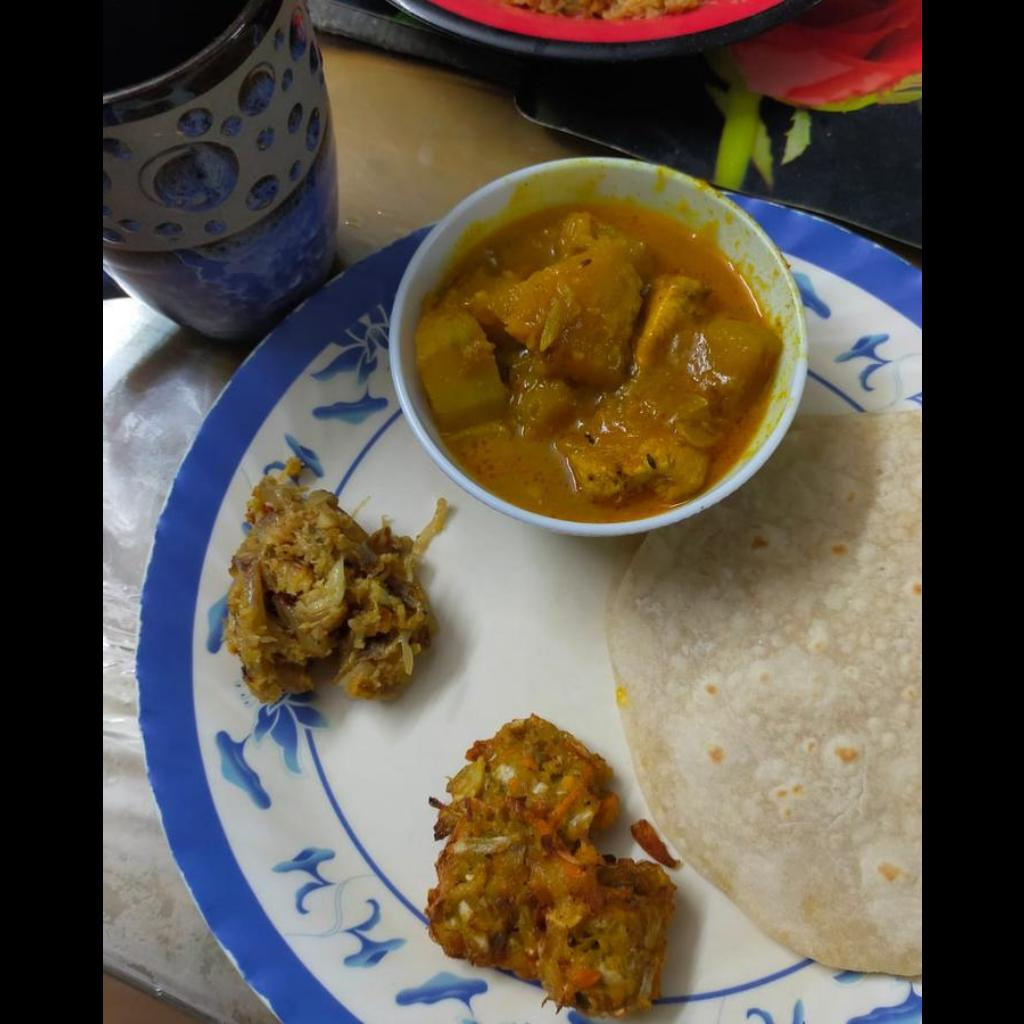chicken: (560, 280, 775, 503)
kumra-vaji: (473, 237, 640, 386)
piyaju: (420, 717, 680, 1007)
potato: (415, 308, 506, 433)
ruti: (607, 410, 920, 977)
vorta: (232, 471, 439, 700)
